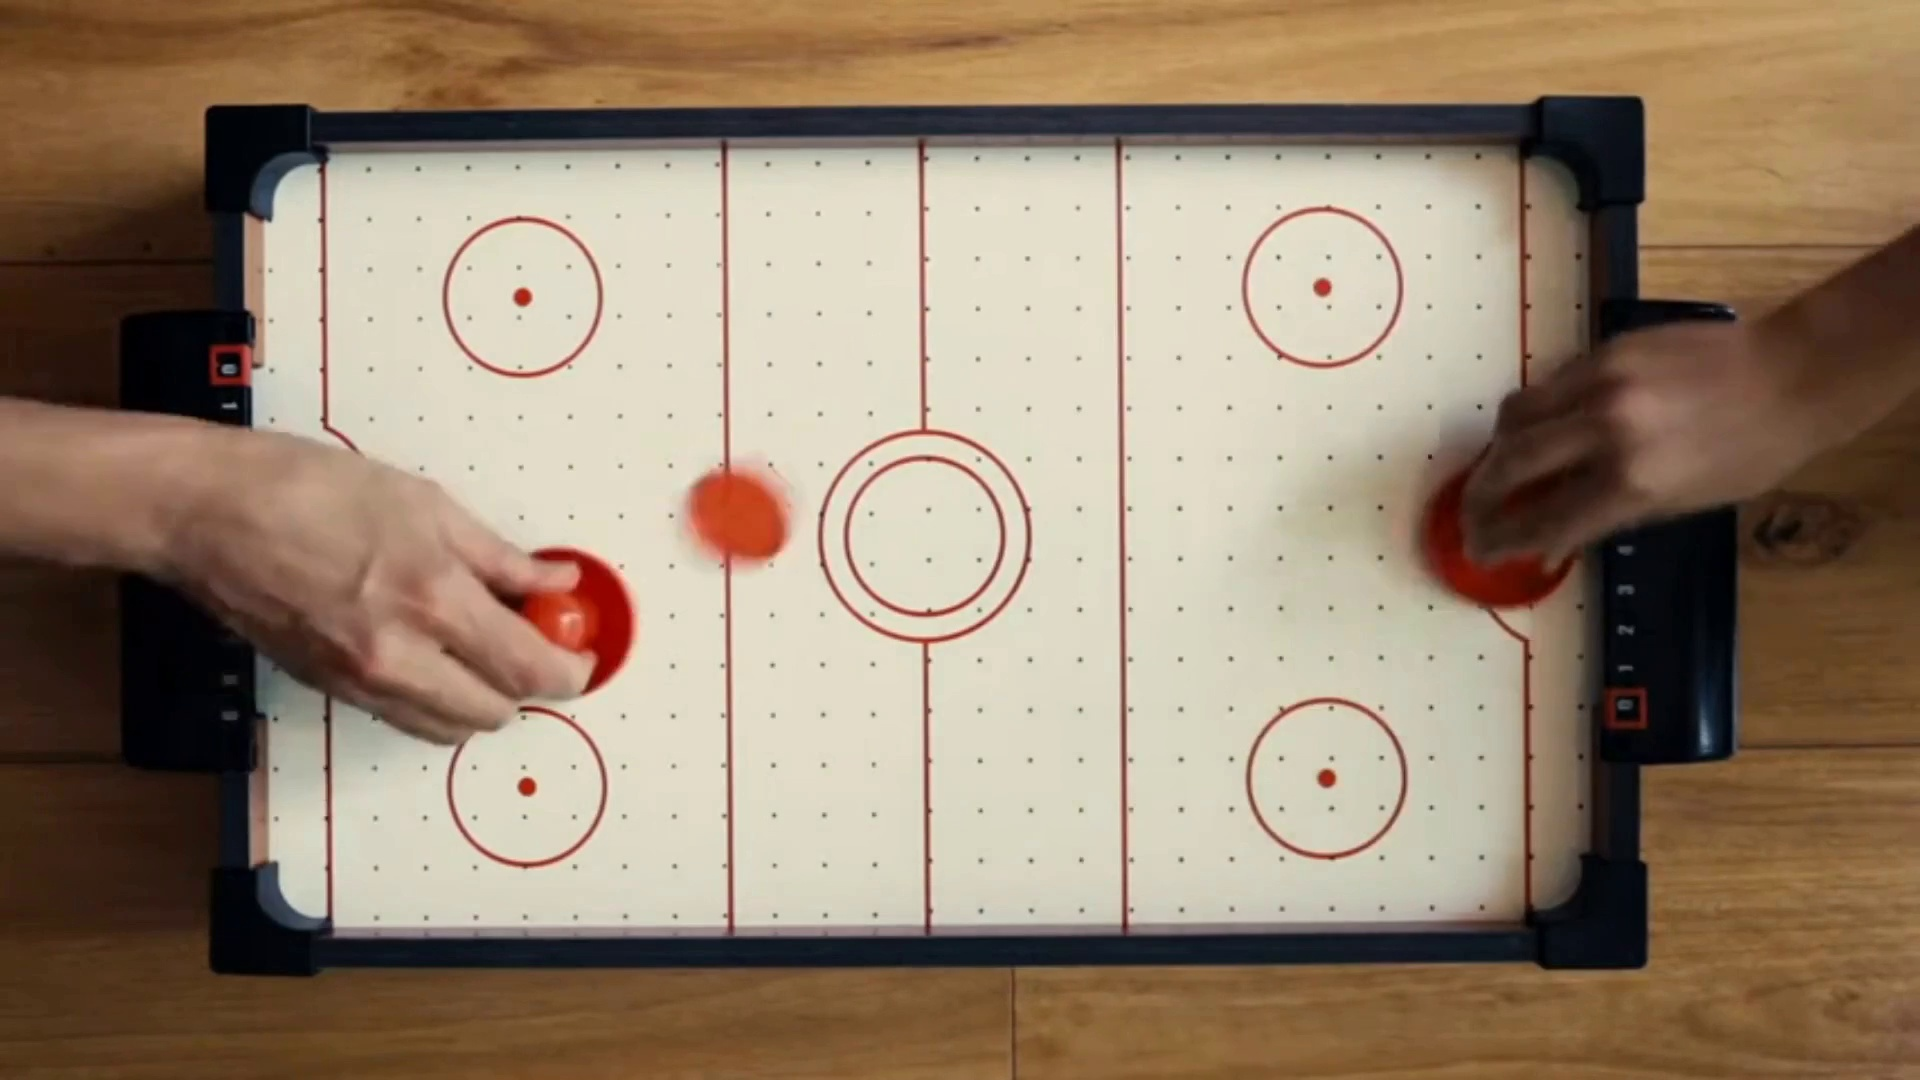player: (1419, 470, 1578, 609), (497, 549, 634, 698)
puck: (679, 467, 790, 557)
table: (257, 157, 1608, 927)
